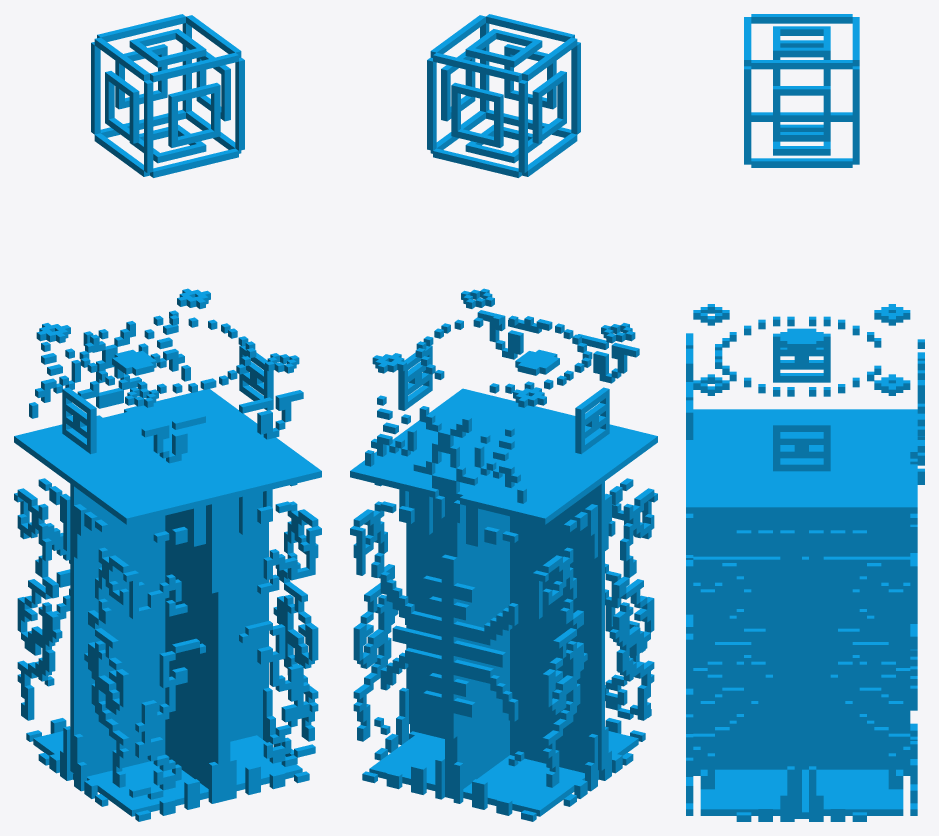
The picture shows the model from 3 angles, left to right: view 1: azimuth 30°, elevation 25°; view 2: azimuth 150°, elevation 25°; view 3: azimuth 270°, elevation 25°; orthographic projection. The views are drawn at different scales.
Visible parts, largest first — view 1: 白光; view 2: 白光; view 3: 白光.
Boxes of the visible parts, x1,y1,x2,y2 form: 白光: (14, 14, 321, 821); 白光: (350, 14, 657, 821); 白光: (686, 14, 924, 821).
Size of the model in its own units: 32 by 112 by 33.
